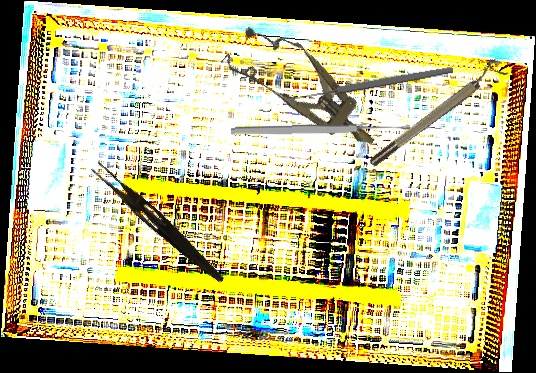Dressing Forceps: (86, 160, 231, 286)
Fixation Ring: (362, 55, 510, 170)
Speculum: (219, 12, 393, 169)
Surgical Spoon: (288, 64, 454, 104), (230, 122, 411, 137)
